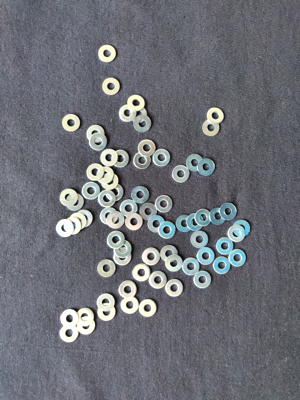circle: (101, 77, 122, 98), (97, 43, 118, 63), (59, 324, 79, 345), (82, 181, 102, 201), (97, 292, 117, 312), (60, 309, 80, 329), (154, 195, 175, 214), (98, 303, 119, 322), (76, 317, 97, 336), (190, 229, 208, 251), (138, 139, 157, 159), (59, 188, 78, 208), (193, 271, 213, 290), (182, 257, 202, 276), (166, 278, 186, 297), (149, 271, 169, 290), (132, 264, 152, 283), (120, 295, 139, 315), (130, 104, 148, 125), (197, 158, 216, 177), (125, 213, 144, 232), (100, 207, 119, 226), (147, 215, 166, 234), (158, 221, 177, 240), (194, 208, 213, 227), (98, 259, 117, 278), (227, 225, 246, 244), (233, 219, 252, 238), (142, 247, 161, 266), (139, 298, 158, 317), (86, 124, 106, 142), (176, 214, 194, 234), (209, 206, 227, 226), (220, 201, 238, 221), (228, 249, 248, 267), (164, 255, 184, 273), (187, 211, 204, 232), (153, 149, 172, 167), (133, 152, 152, 170), (62, 114, 81, 132), (99, 149, 118, 167), (67, 192, 85, 211), (120, 199, 138, 218), (107, 211, 125, 230), (56, 219, 74, 238), (64, 217, 82, 236), (113, 249, 132, 267), (197, 247, 215, 266), (212, 257, 231, 275), (216, 238, 235, 256), (119, 281, 138, 299), (133, 116, 153, 133), (70, 212, 87, 232), (78, 307, 95, 327), (186, 154, 204, 172), (90, 133, 108, 151), (112, 150, 130, 168), (86, 164, 104, 182), (97, 167, 115, 185), (102, 173, 120, 191), (131, 185, 149, 203), (127, 95, 146, 112), (119, 104, 136, 123), (173, 165, 190, 184), (105, 184, 124, 201), (77, 209, 94, 228), (106, 232, 125, 249), (114, 241, 134, 257), (140, 203, 157, 221), (161, 245, 179, 262), (206, 108, 225, 124), (203, 118, 219, 137), (98, 191, 117, 207)
